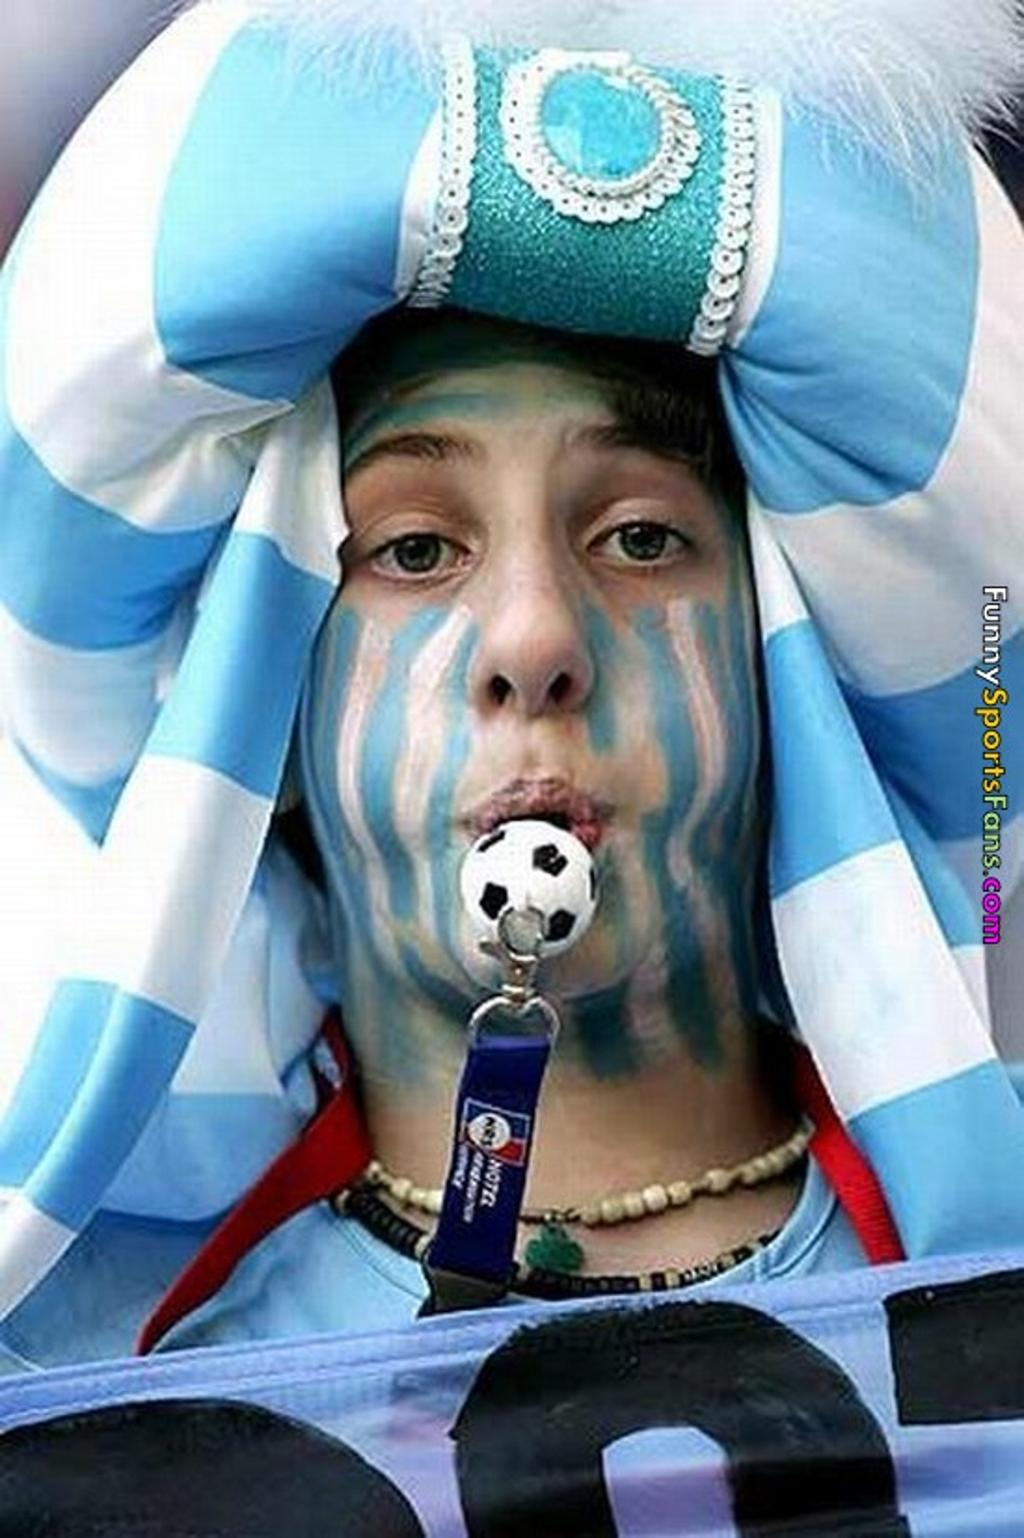face: (300, 351, 762, 1012)
